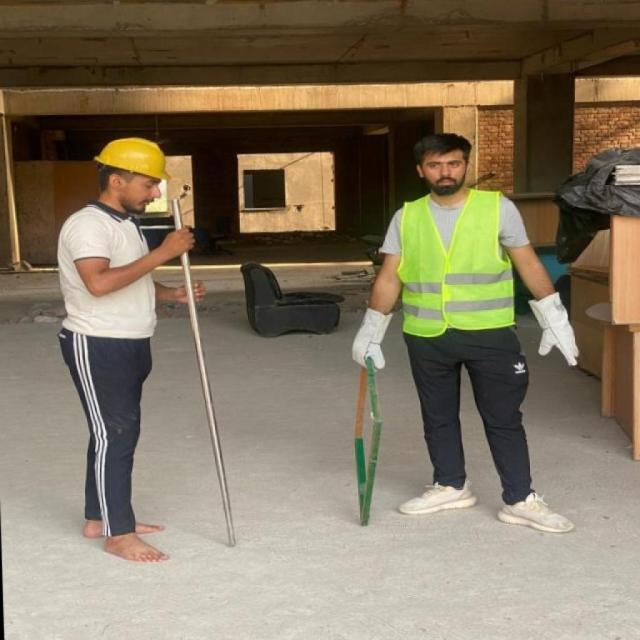Gloves-Detection: (520, 288, 583, 369), (350, 303, 389, 374)
